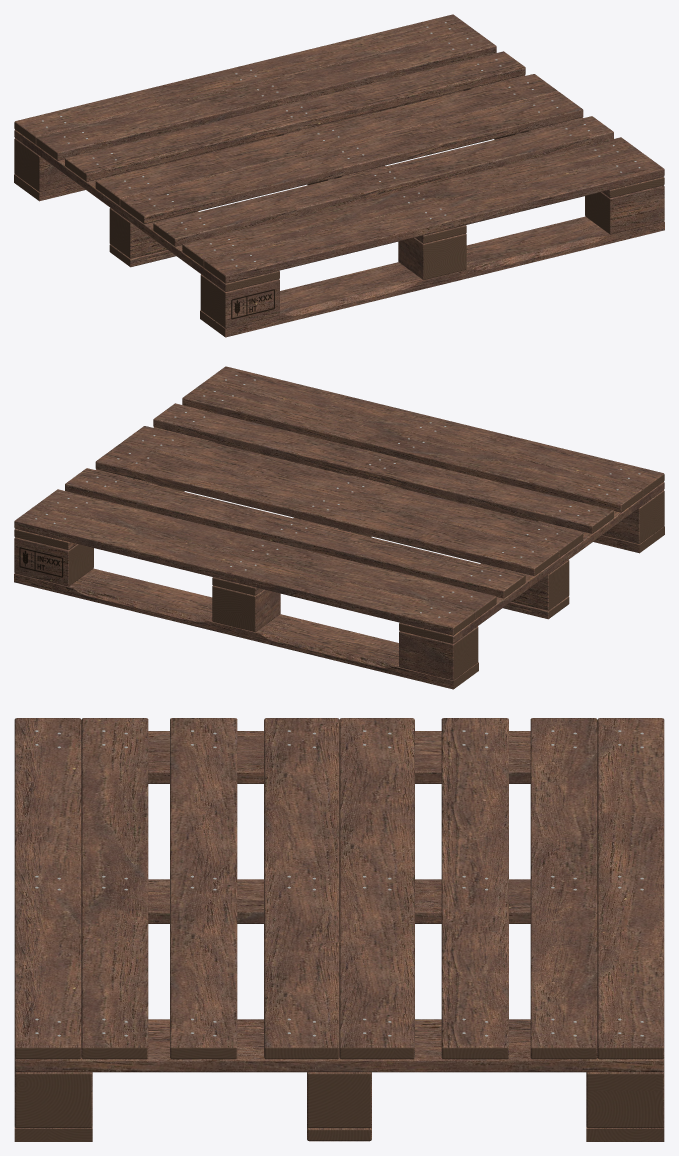
File: hw02-hardwood-pallet-1200x1000.glb
The picture shows the model from 3 angles, top to bottom: view 1: azimuth 30°, elevation 25°; view 2: azimuth 150°, elevation 25°; view 3: azimuth 270°, elevation 25°; orthographic projection. The views are drawn at different scales.
Visible parts, largest first — view 1: hw02-hardwood-pallet-1200x1000; view 2: hw02-hardwood-pallet-1200x1000; view 3: hw02-hardwood-pallet-1200x1000.
Boxes of the visible parts, x1,y1,x2,y2 form: hw02-hardwood-pallet-1200x1000: (14, 14, 664, 337); hw02-hardwood-pallet-1200x1000: (14, 366, 664, 689); hw02-hardwood-pallet-1200x1000: (14, 718, 664, 1141).
Bounding box in the file's own units: 1.2 × 0.1619 × 1.
Materials: 4 (3 with a texture image).
